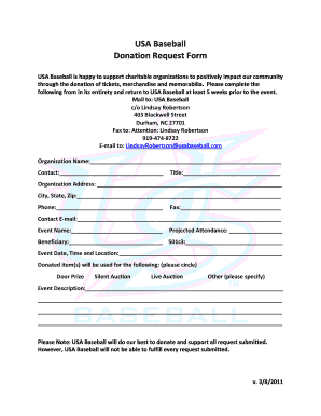textline: (36, 294, 285, 306), (87, 152, 286, 167), (33, 307, 286, 318), (33, 318, 286, 329), (96, 178, 285, 191), (75, 213, 283, 224), (77, 191, 283, 202), (84, 282, 283, 293), (117, 248, 285, 259), (58, 166, 167, 178), (182, 166, 282, 179), (180, 200, 283, 212), (67, 236, 166, 248), (184, 236, 283, 248), (69, 224, 165, 236), (55, 202, 166, 212), (228, 225, 283, 236)
